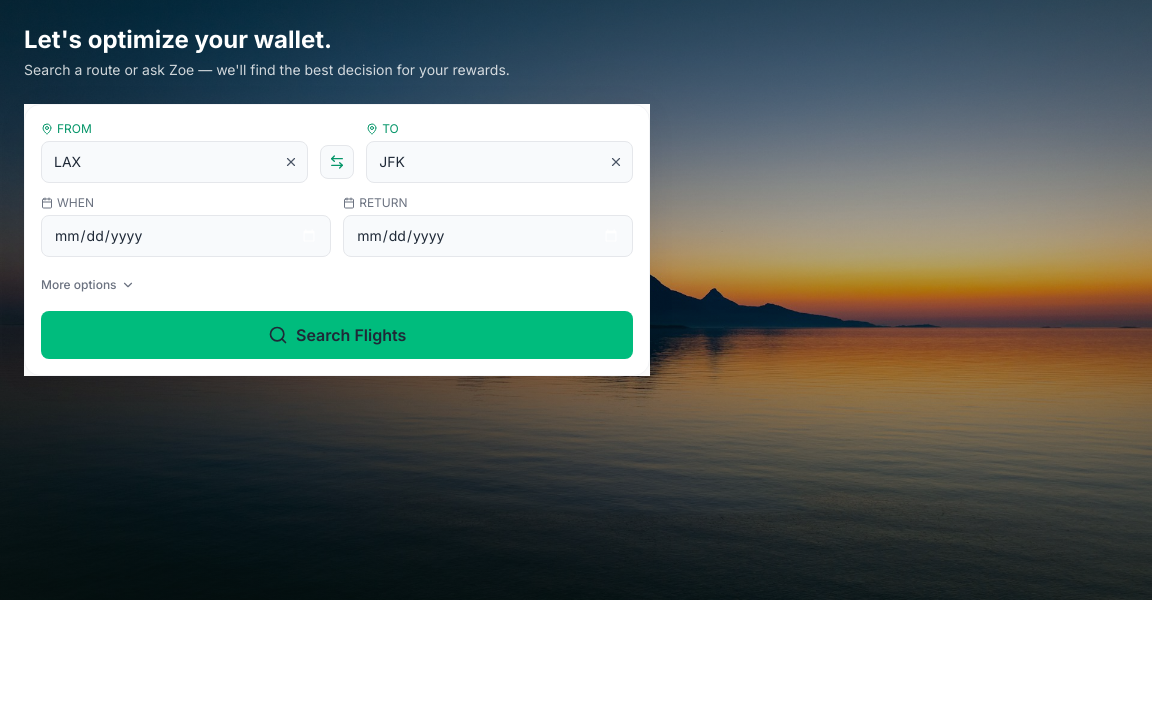
Swap origin/destination button › swaps LAX -> JFK and JFK -> LAX on click
Expected: the field below "FROM" holds "LAX", top-left (41, 141), bottom-right (308, 183)
Expected: the field below "TO" holds "JFK", top-left (366, 141), bottom-right (633, 183)
Click the button named "Swap origin and destination": (337, 162) top-left (320, 145), bottom-right (354, 179)
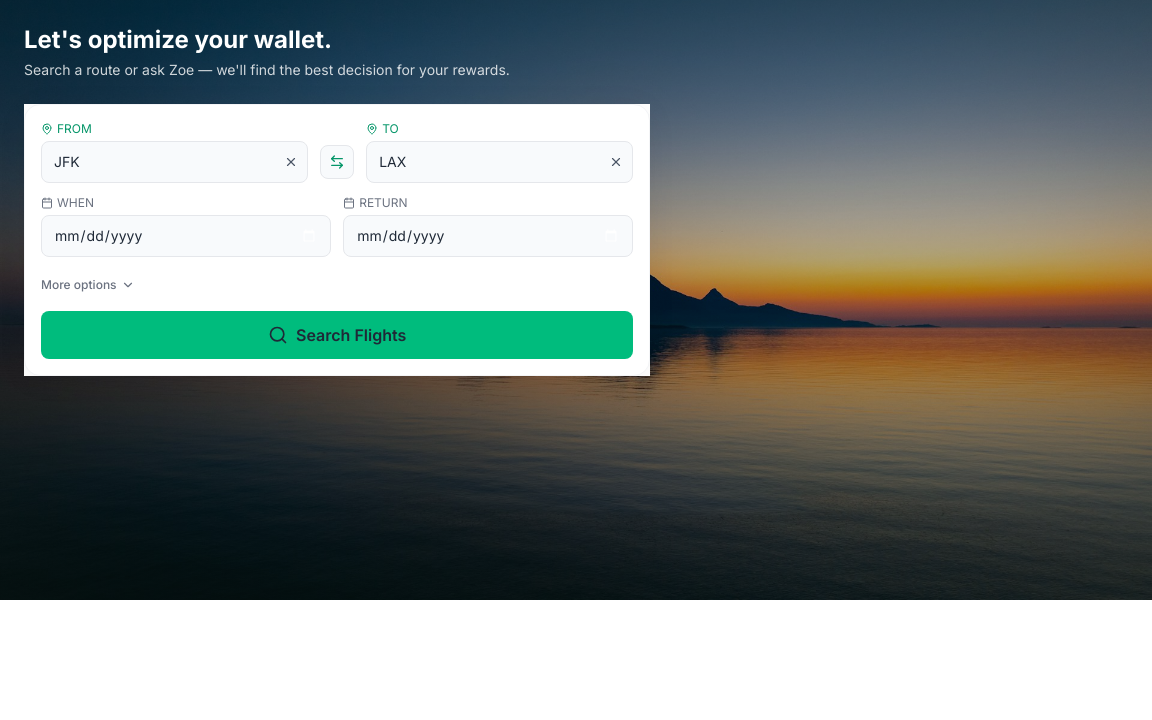
Now the field below "FROM" holds "JFK", box top-left (41, 141), bottom-right (308, 183)
Now the field below "TO" holds "LAX", box top-left (366, 141), bottom-right (633, 183)
